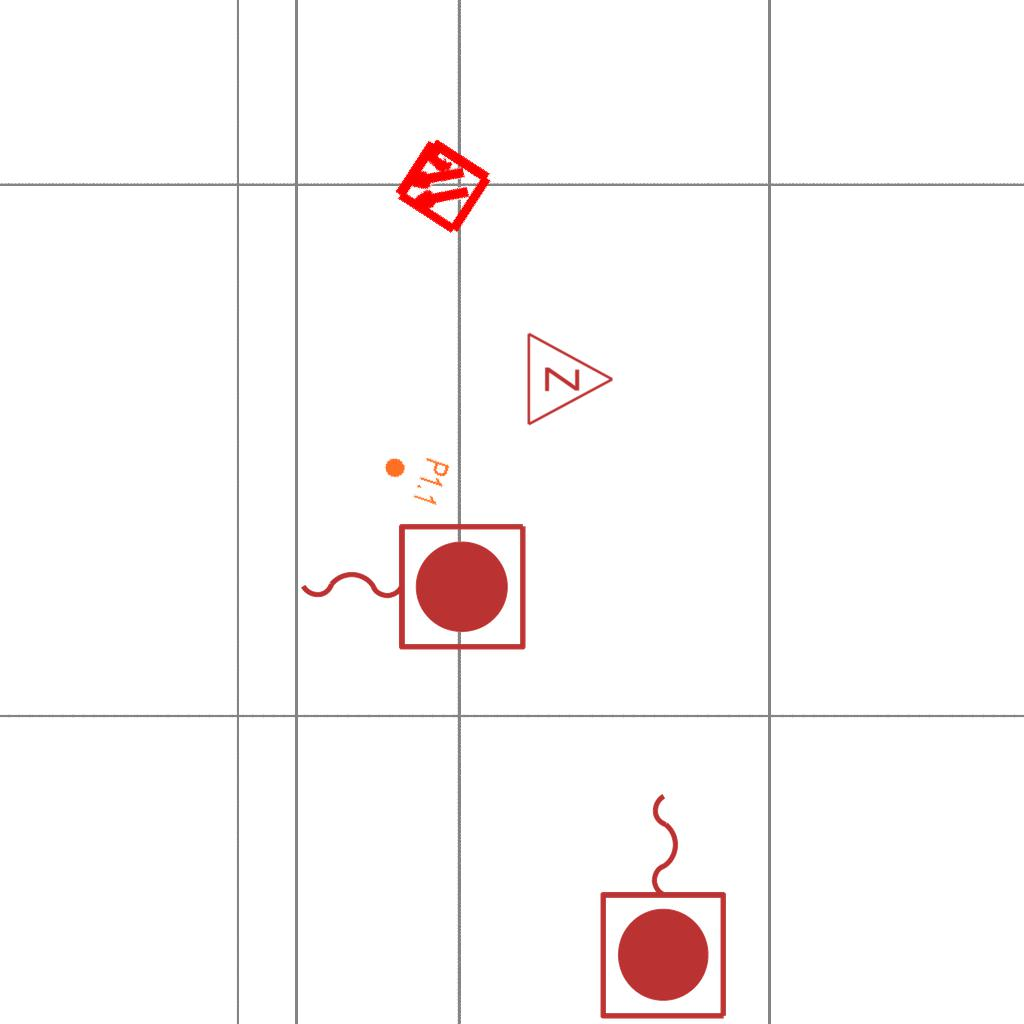Downlight_LED_Einbauleuchten_Flur: (376, 443, 452, 509)
OT_Multisensormelder_(Kombination_RMO_WMD): (363, 106, 520, 263)
Zimmersignalleuchte: (520, 329, 620, 427)
Zugtaster: (290, 513, 534, 657), (593, 783, 737, 1024)
